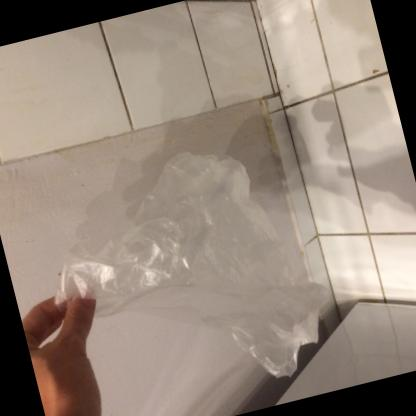Plastic: (54, 151, 330, 378)
